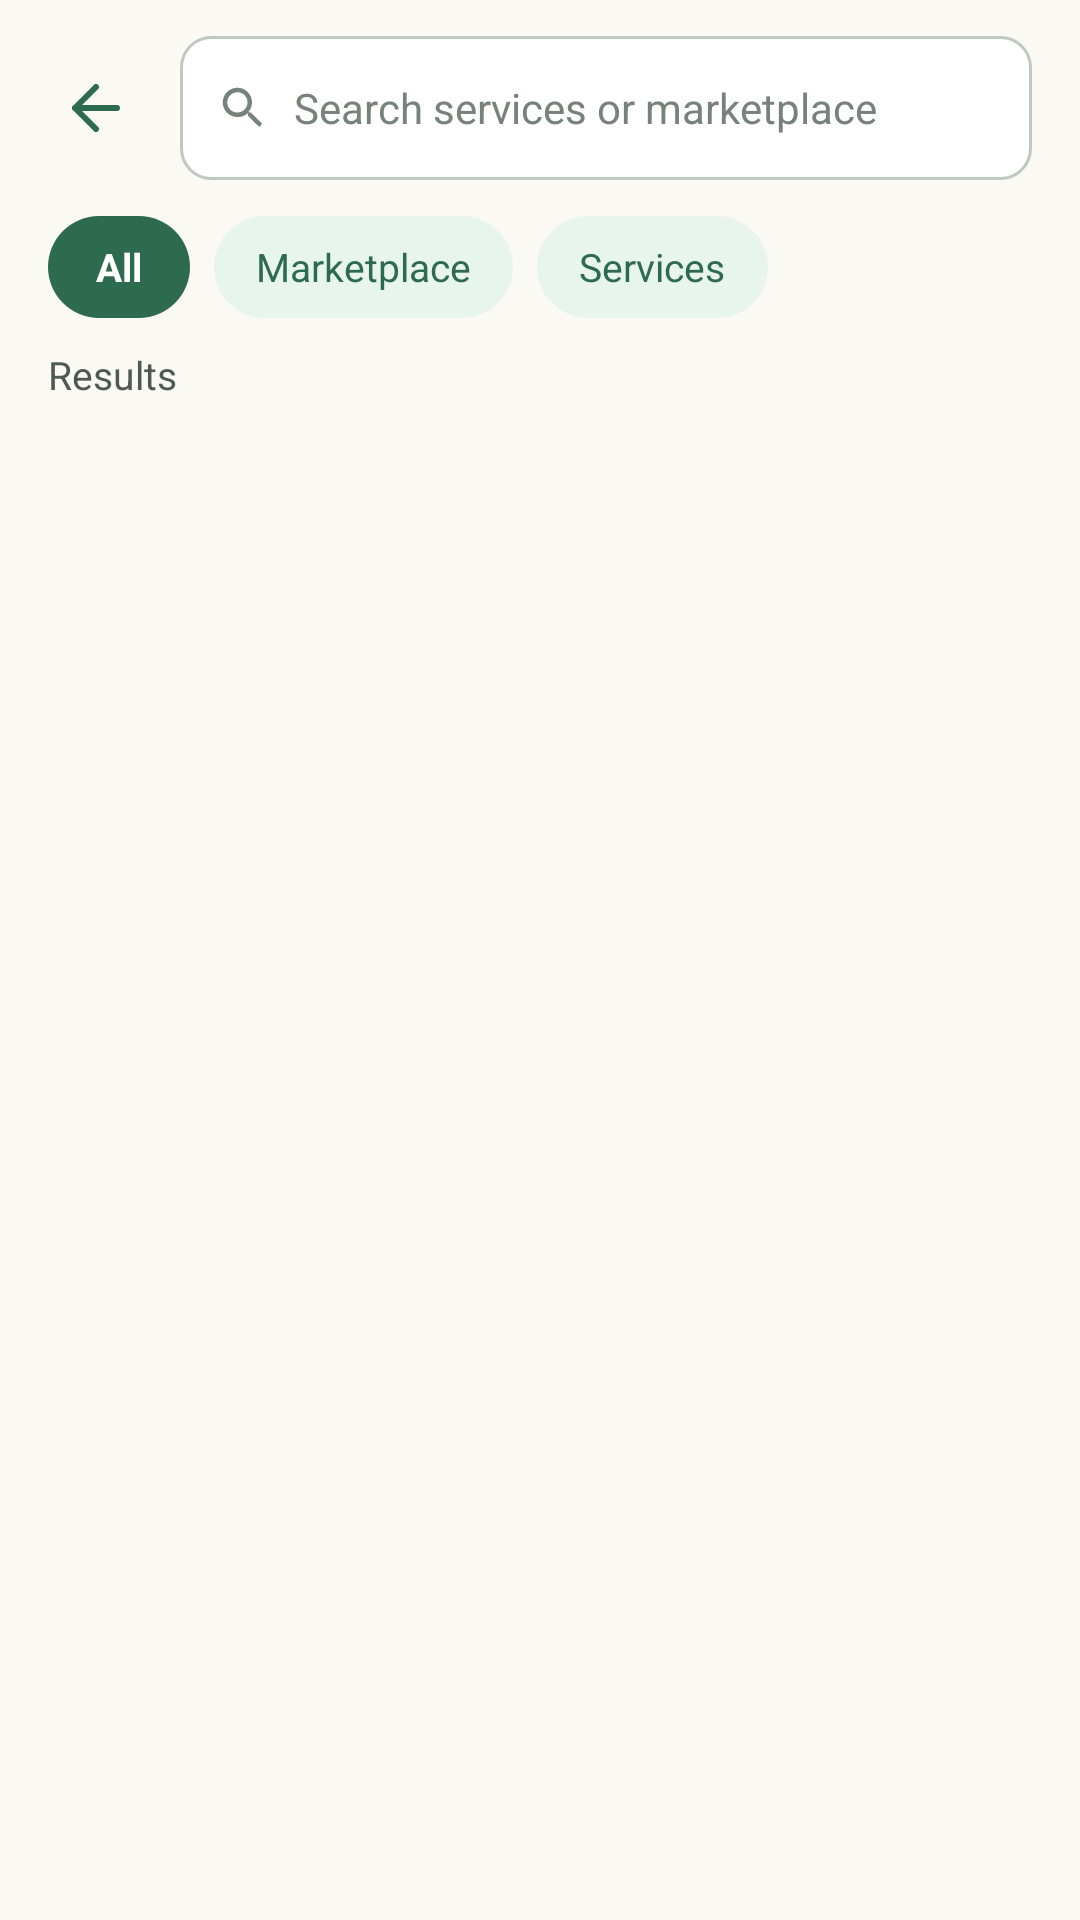

Where to tap for icons on this 1080px x 1920px app screen, as (x=x, y=y):
Back: (x=96, y=108)
